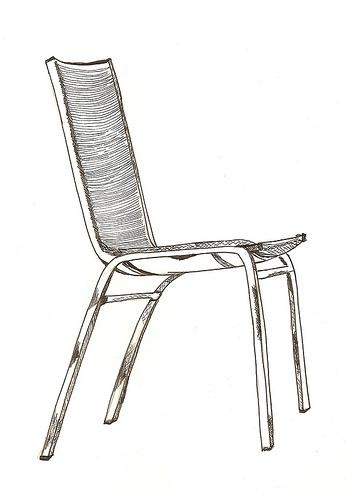obstacle: (40, 57, 309, 459)
